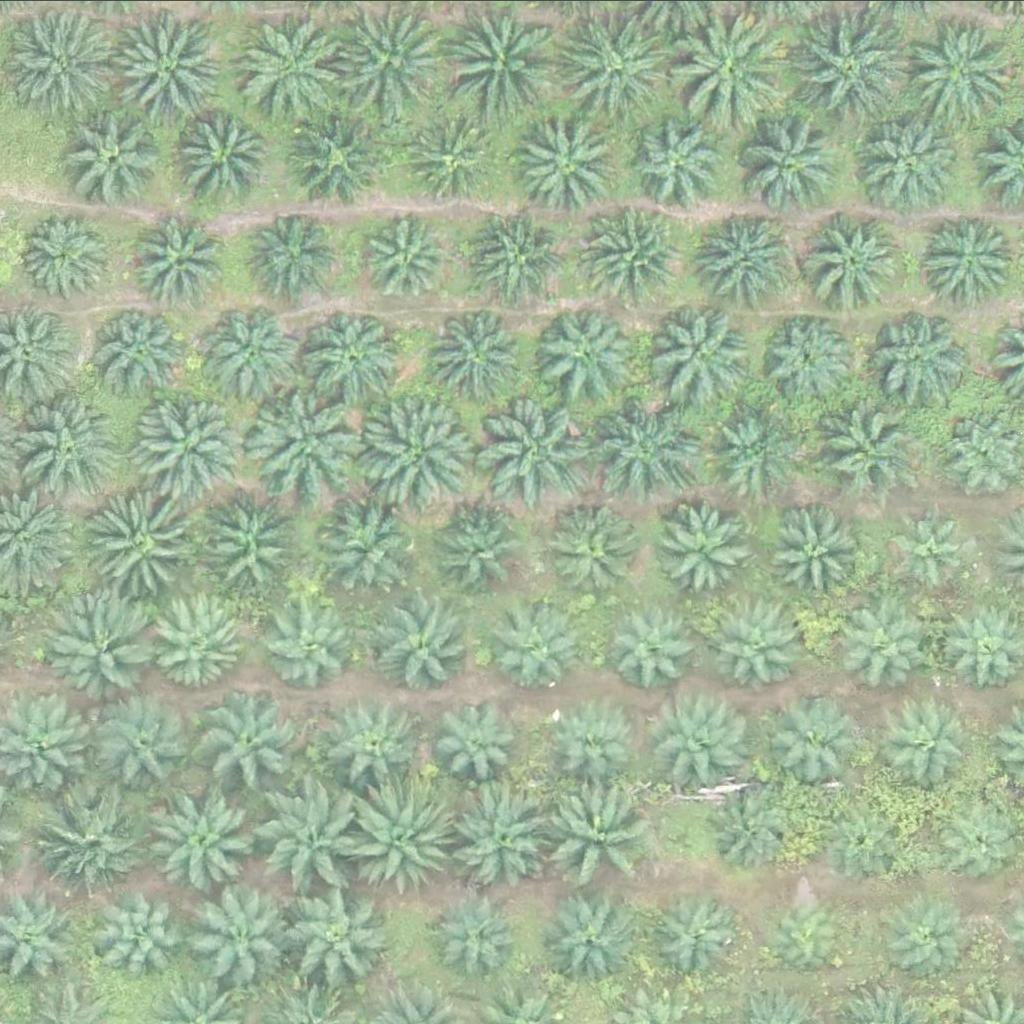Kelapa_Sawit: (12, 389, 126, 502), (562, 14, 676, 127), (334, 5, 448, 118), (6, 8, 119, 121), (909, 9, 1022, 122), (793, 10, 906, 123), (242, 11, 355, 124), (113, 5, 226, 118), (362, 397, 475, 510), (246, 384, 359, 497), (132, 393, 245, 506), (255, 779, 368, 892), (437, 4, 551, 116), (91, 490, 204, 602), (589, 397, 702, 509), (676, 13, 789, 125), (478, 391, 591, 503), (314, 497, 427, 609), (348, 783, 461, 895), (46, 794, 147, 894), (45, 606, 146, 706), (63, 106, 164, 206), (553, 780, 654, 880), (701, 773, 802, 873), (834, 595, 935, 695), (768, 500, 869, 600), (649, 498, 750, 598), (540, 502, 641, 602), (701, 403, 802, 503), (812, 400, 913, 500), (535, 306, 636, 406), (803, 208, 904, 308), (579, 207, 680, 307), (630, 110, 731, 210), (740, 112, 841, 212), (467, 205, 568, 305), (300, 306, 401, 406), (426, 308, 527, 408), (206, 488, 307, 588), (374, 596, 475, 696), (263, 590, 364, 690), (202, 690, 303, 790), (324, 693, 425, 793), (150, 791, 251, 891), (194, 884, 295, 984), (92, 699, 192, 799), (95, 303, 195, 403), (544, 890, 644, 990), (648, 883, 748, 983), (655, 690, 755, 790), (654, 301, 754, 401), (871, 310, 971, 410), (919, 207, 1019, 307), (690, 200, 790, 300), (521, 116, 621, 216), (858, 113, 958, 213), (173, 104, 273, 204), (287, 104, 387, 204), (238, 201, 338, 301), (129, 209, 229, 309), (202, 300, 302, 400), (456, 789, 556, 889), (293, 879, 393, 979), (16, 211, 104, 299), (825, 790, 913, 878), (552, 700, 640, 788), (773, 699, 861, 787), (885, 703, 973, 791), (610, 602, 698, 690), (717, 602, 805, 690), (406, 117, 494, 205), (368, 215, 456, 303), (435, 507, 523, 595), (158, 600, 246, 688), (436, 896, 524, 984), (887, 510, 976, 597), (106, 889, 194, 976), (879, 894, 967, 981), (765, 314, 853, 401), (499, 610, 587, 697), (431, 699, 519, 786), (773, 896, 849, 971)
